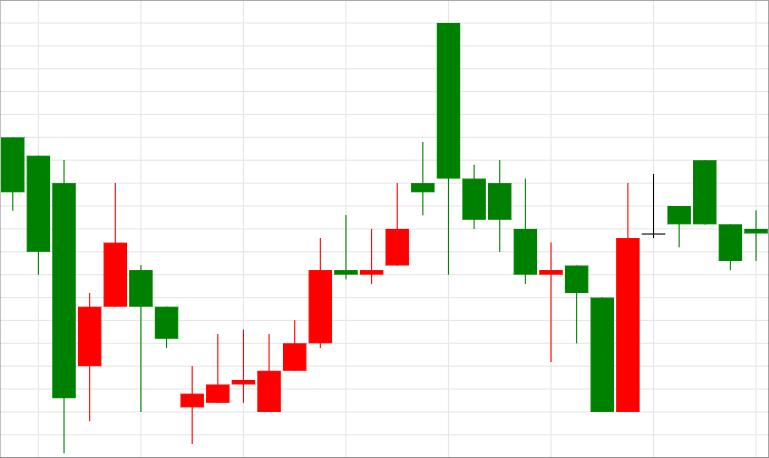bullish_engulfing_rise: (437, 23, 639, 412)
